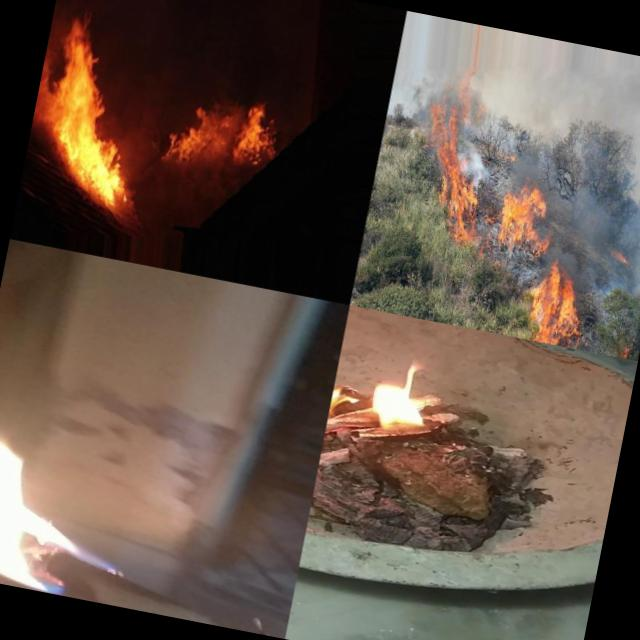fire: (0, 382, 140, 602), (37, 15, 157, 205), (315, 348, 451, 506), (157, 80, 282, 182), (434, 120, 491, 239), (520, 265, 590, 347), (31, 10, 70, 132), (494, 183, 554, 256)
smoke: (539, 166, 640, 286)
